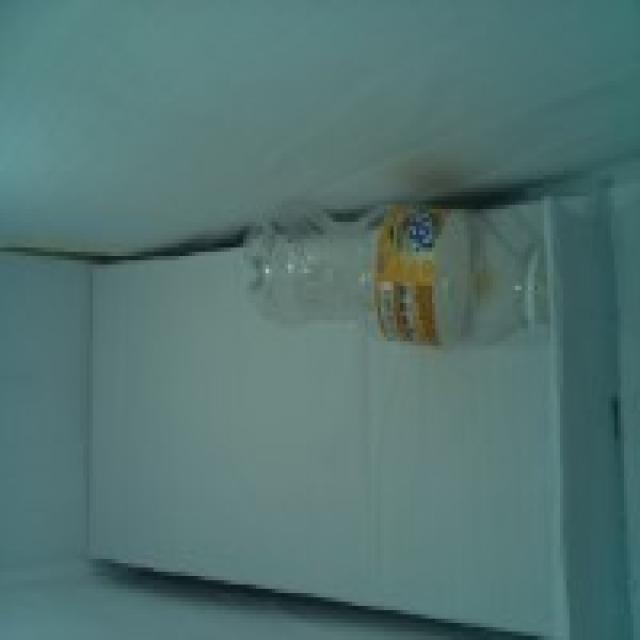Anorganik: (237, 179, 557, 384)
